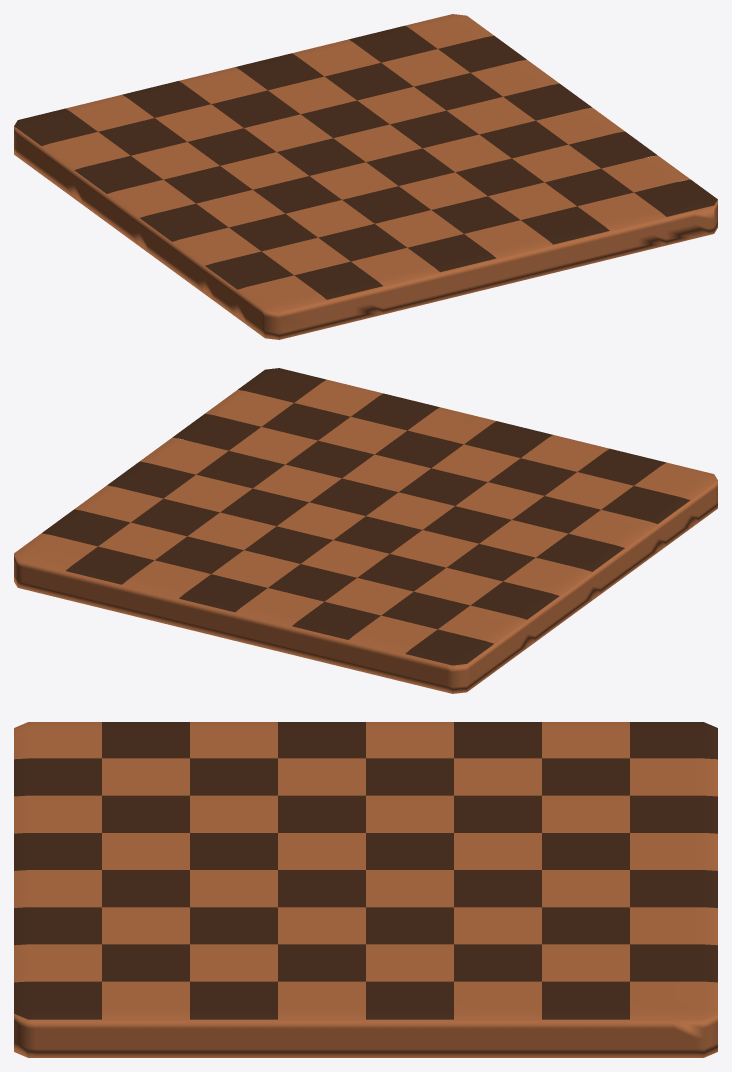
File: checkerboard.glb
3 renders of one model, top to bottom at view 1: azimuth 30°, elevation 25°; view 2: azimuth 150°, elevation 25°; view 3: azimuth 270°, elevation 25°, orthographic. The views are drawn at different scales.
Size of the model in its own units: 16 by 1 by 16.
